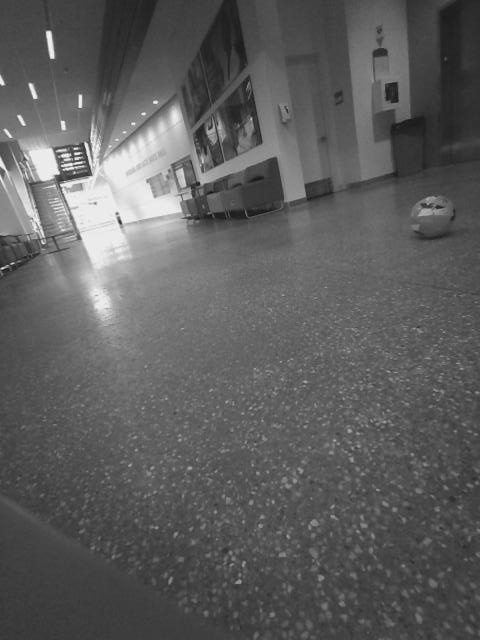ball: (405, 187, 460, 244)
